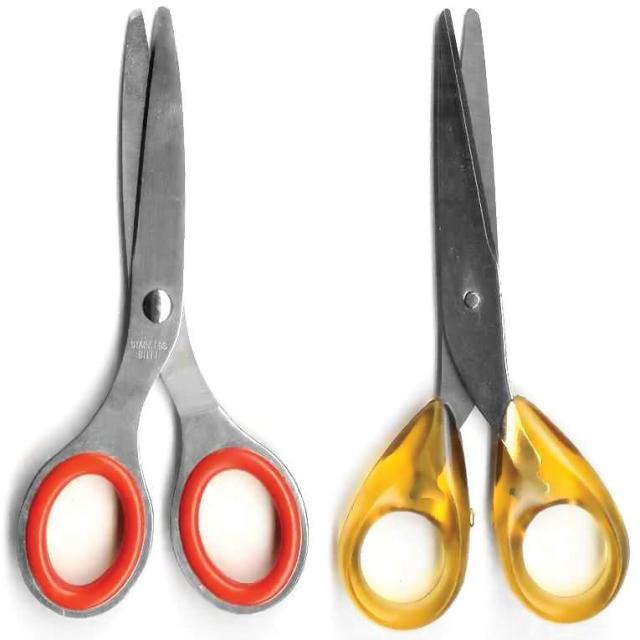scissor: (8, 0, 294, 610), (330, 0, 603, 621)
